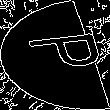P_E: (8, 32, 102, 78)
